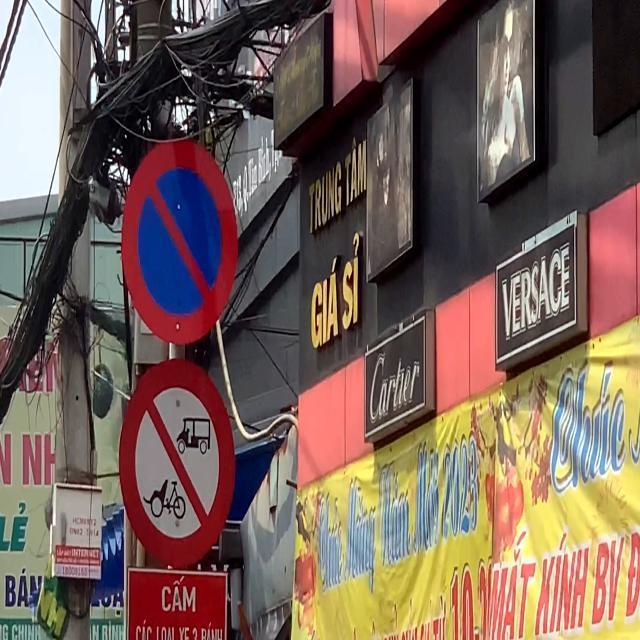131a-cam-do-xe: (118, 141, 240, 338)
